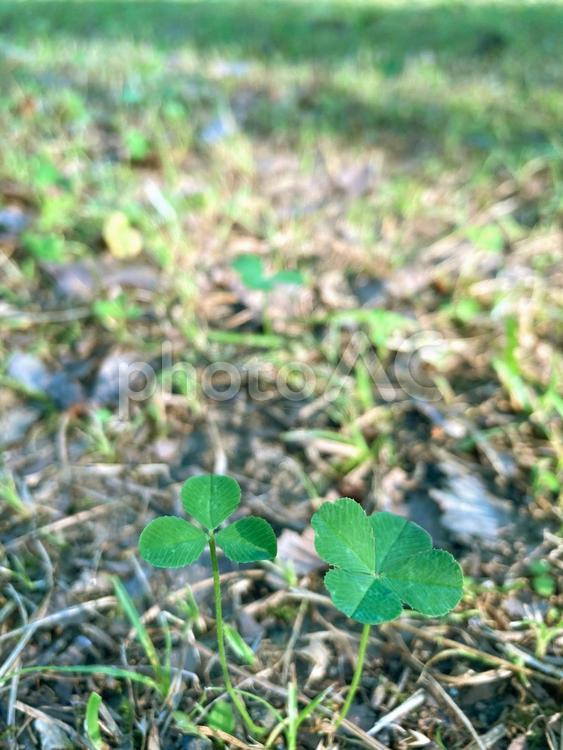daikon: (302, 478, 481, 640), (131, 464, 288, 597), (228, 230, 319, 312)
